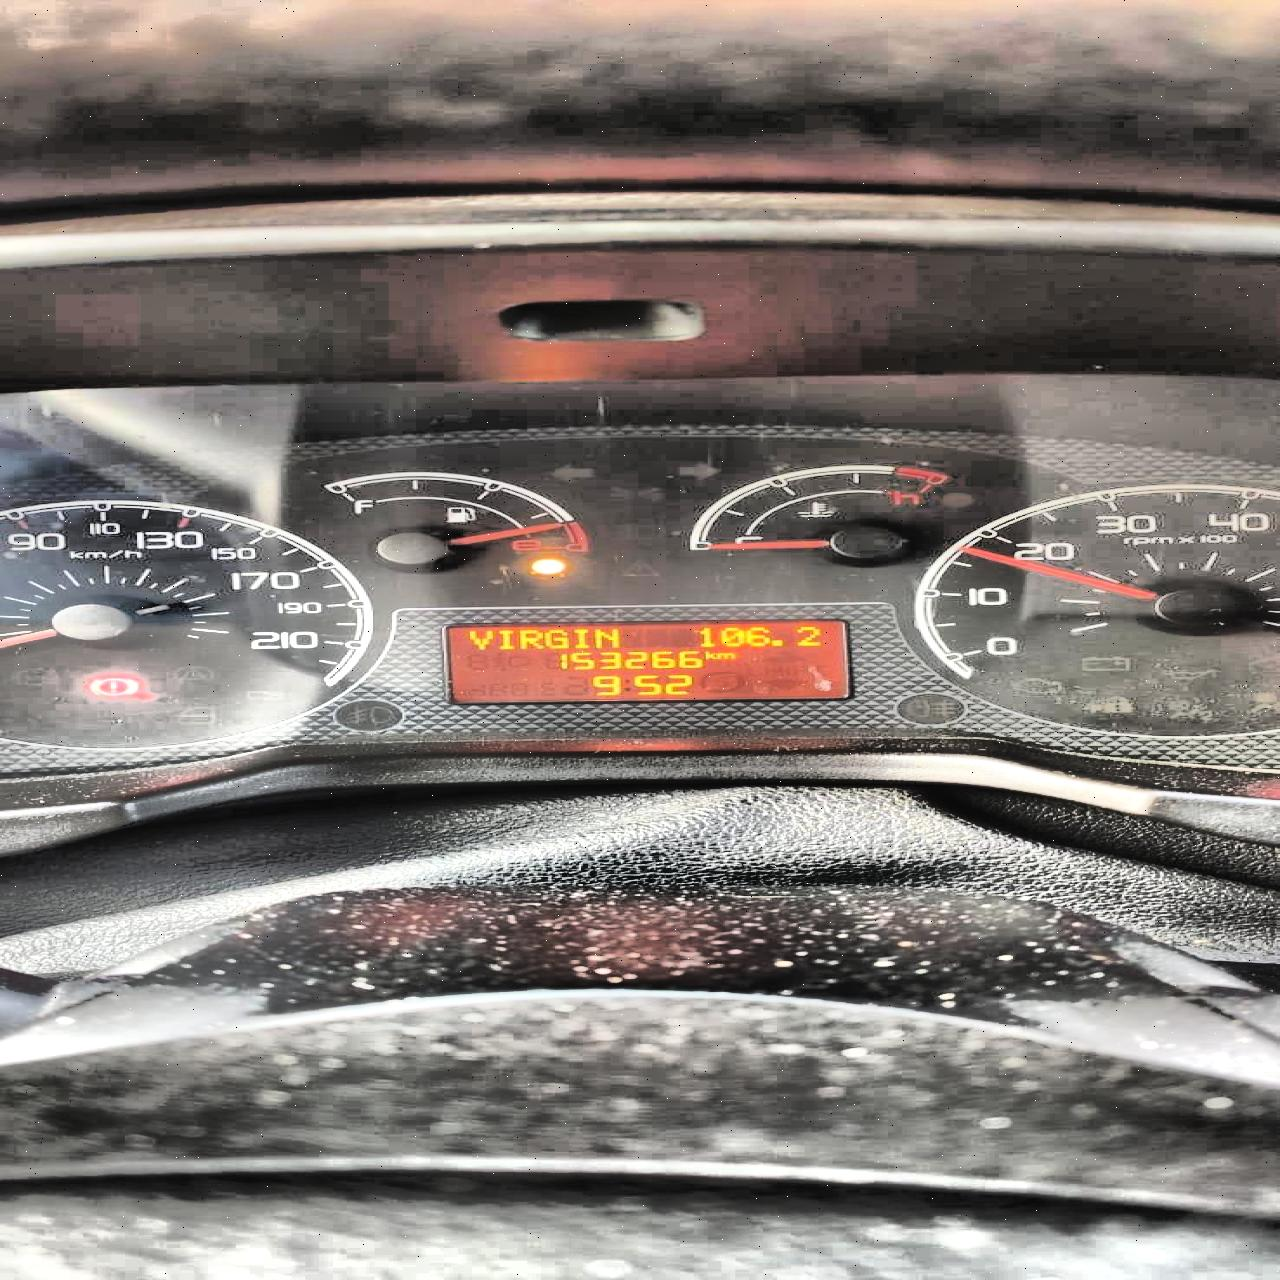-: (768, 638, 785, 648)
0: (717, 626, 742, 647)
1: (695, 626, 716, 647), (557, 652, 568, 670)
2: (662, 673, 693, 694), (792, 626, 822, 647), (622, 651, 647, 669)
3: (597, 651, 619, 669)
5: (632, 674, 662, 695), (568, 651, 593, 669)
6: (744, 626, 768, 647), (676, 649, 702, 668), (648, 649, 673, 668)
9: (587, 674, 618, 697)
X: (591, 627, 621, 648), (464, 628, 492, 649), (515, 628, 542, 649), (543, 628, 567, 649), (496, 628, 513, 651), (571, 628, 588, 649), (702, 648, 716, 659), (716, 652, 735, 659)
odometer: (435, 618, 855, 709)
